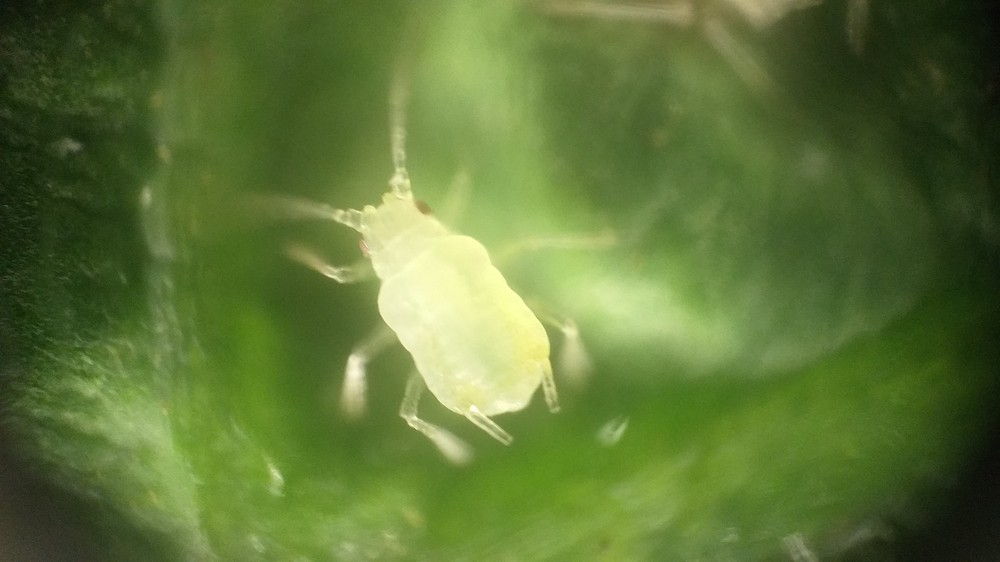Pulgon: (207, 84, 723, 490)
